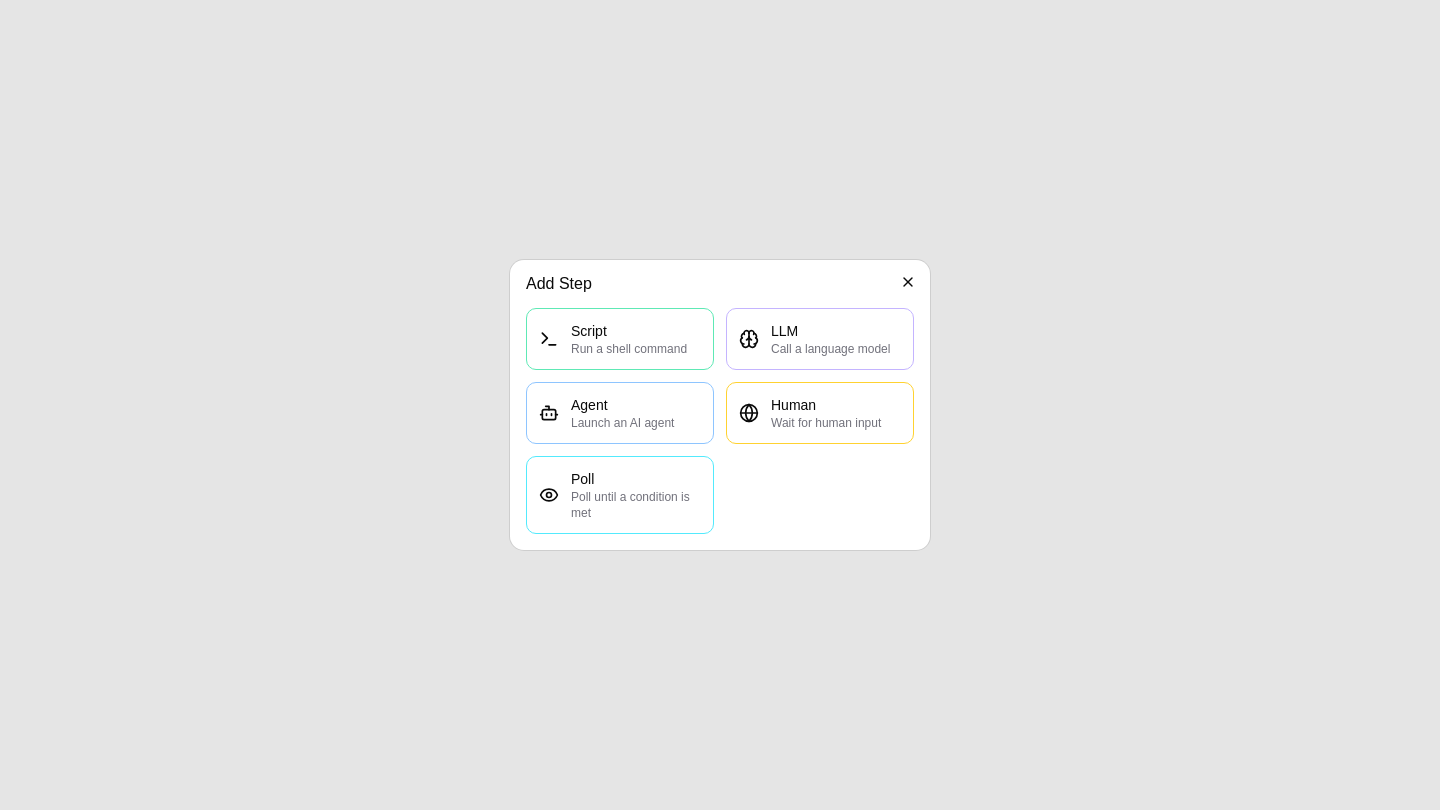
Scenario: StepPalette › transitions to name input after selecting a type
The image size is (1440, 810).
Click the text "Script": (589, 331) [571, 323, 607, 339]
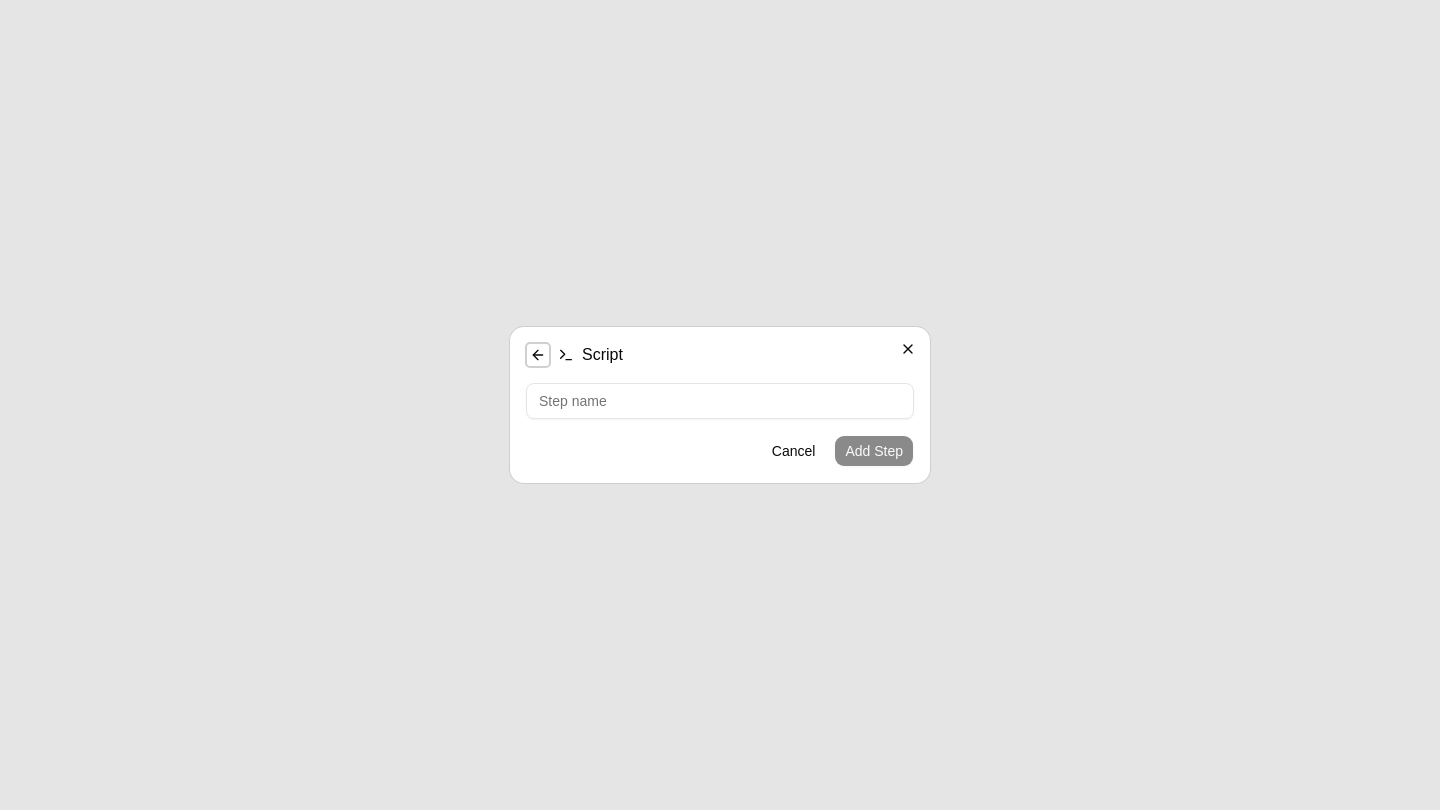
Result: the field with placeholder "Step name" is shown at [526, 383, 914, 419]
